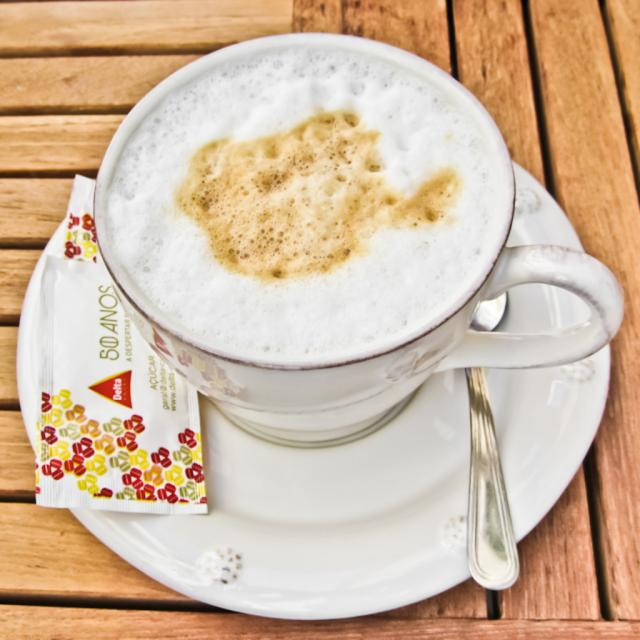Coffee: (100, 42, 506, 357)
